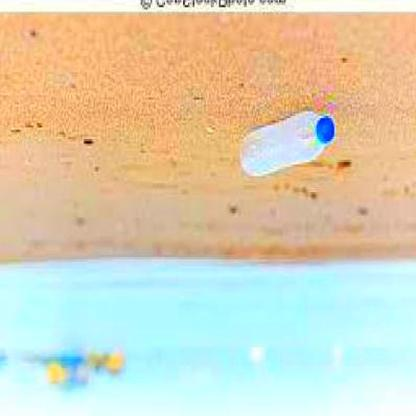plastic bottle: (241, 112, 335, 176)
